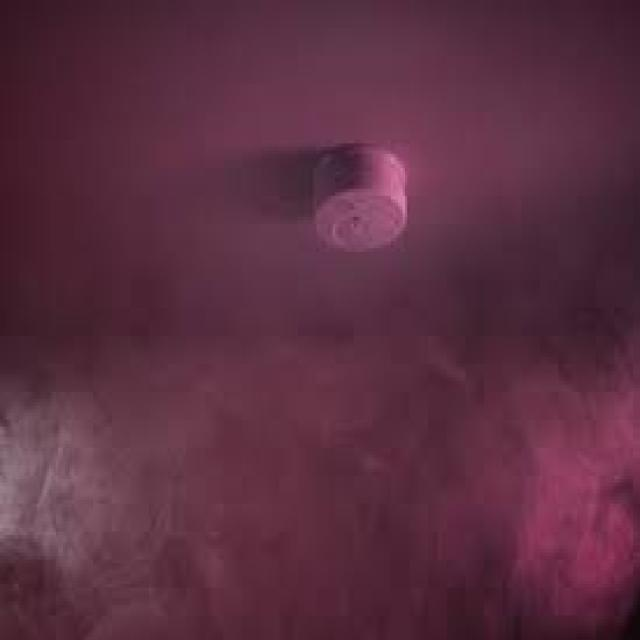Smoke: (0, 290, 640, 640)
